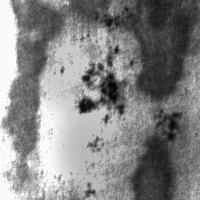patches: (58, 78, 200, 200), (45, 0, 171, 124), (31, 11, 137, 117), (1, 1, 60, 156), (134, 1, 193, 99), (75, 42, 130, 120), (131, 136, 177, 200), (62, 1, 116, 25), (154, 108, 182, 143)
